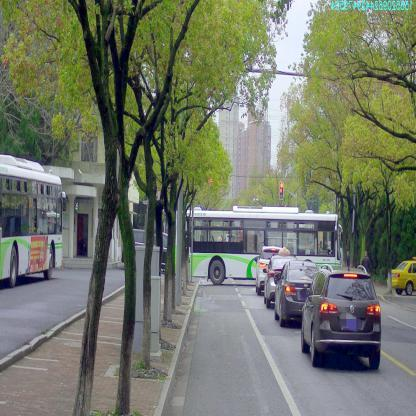traffic-light: (209, 175, 213, 194), (280, 182, 284, 199)
